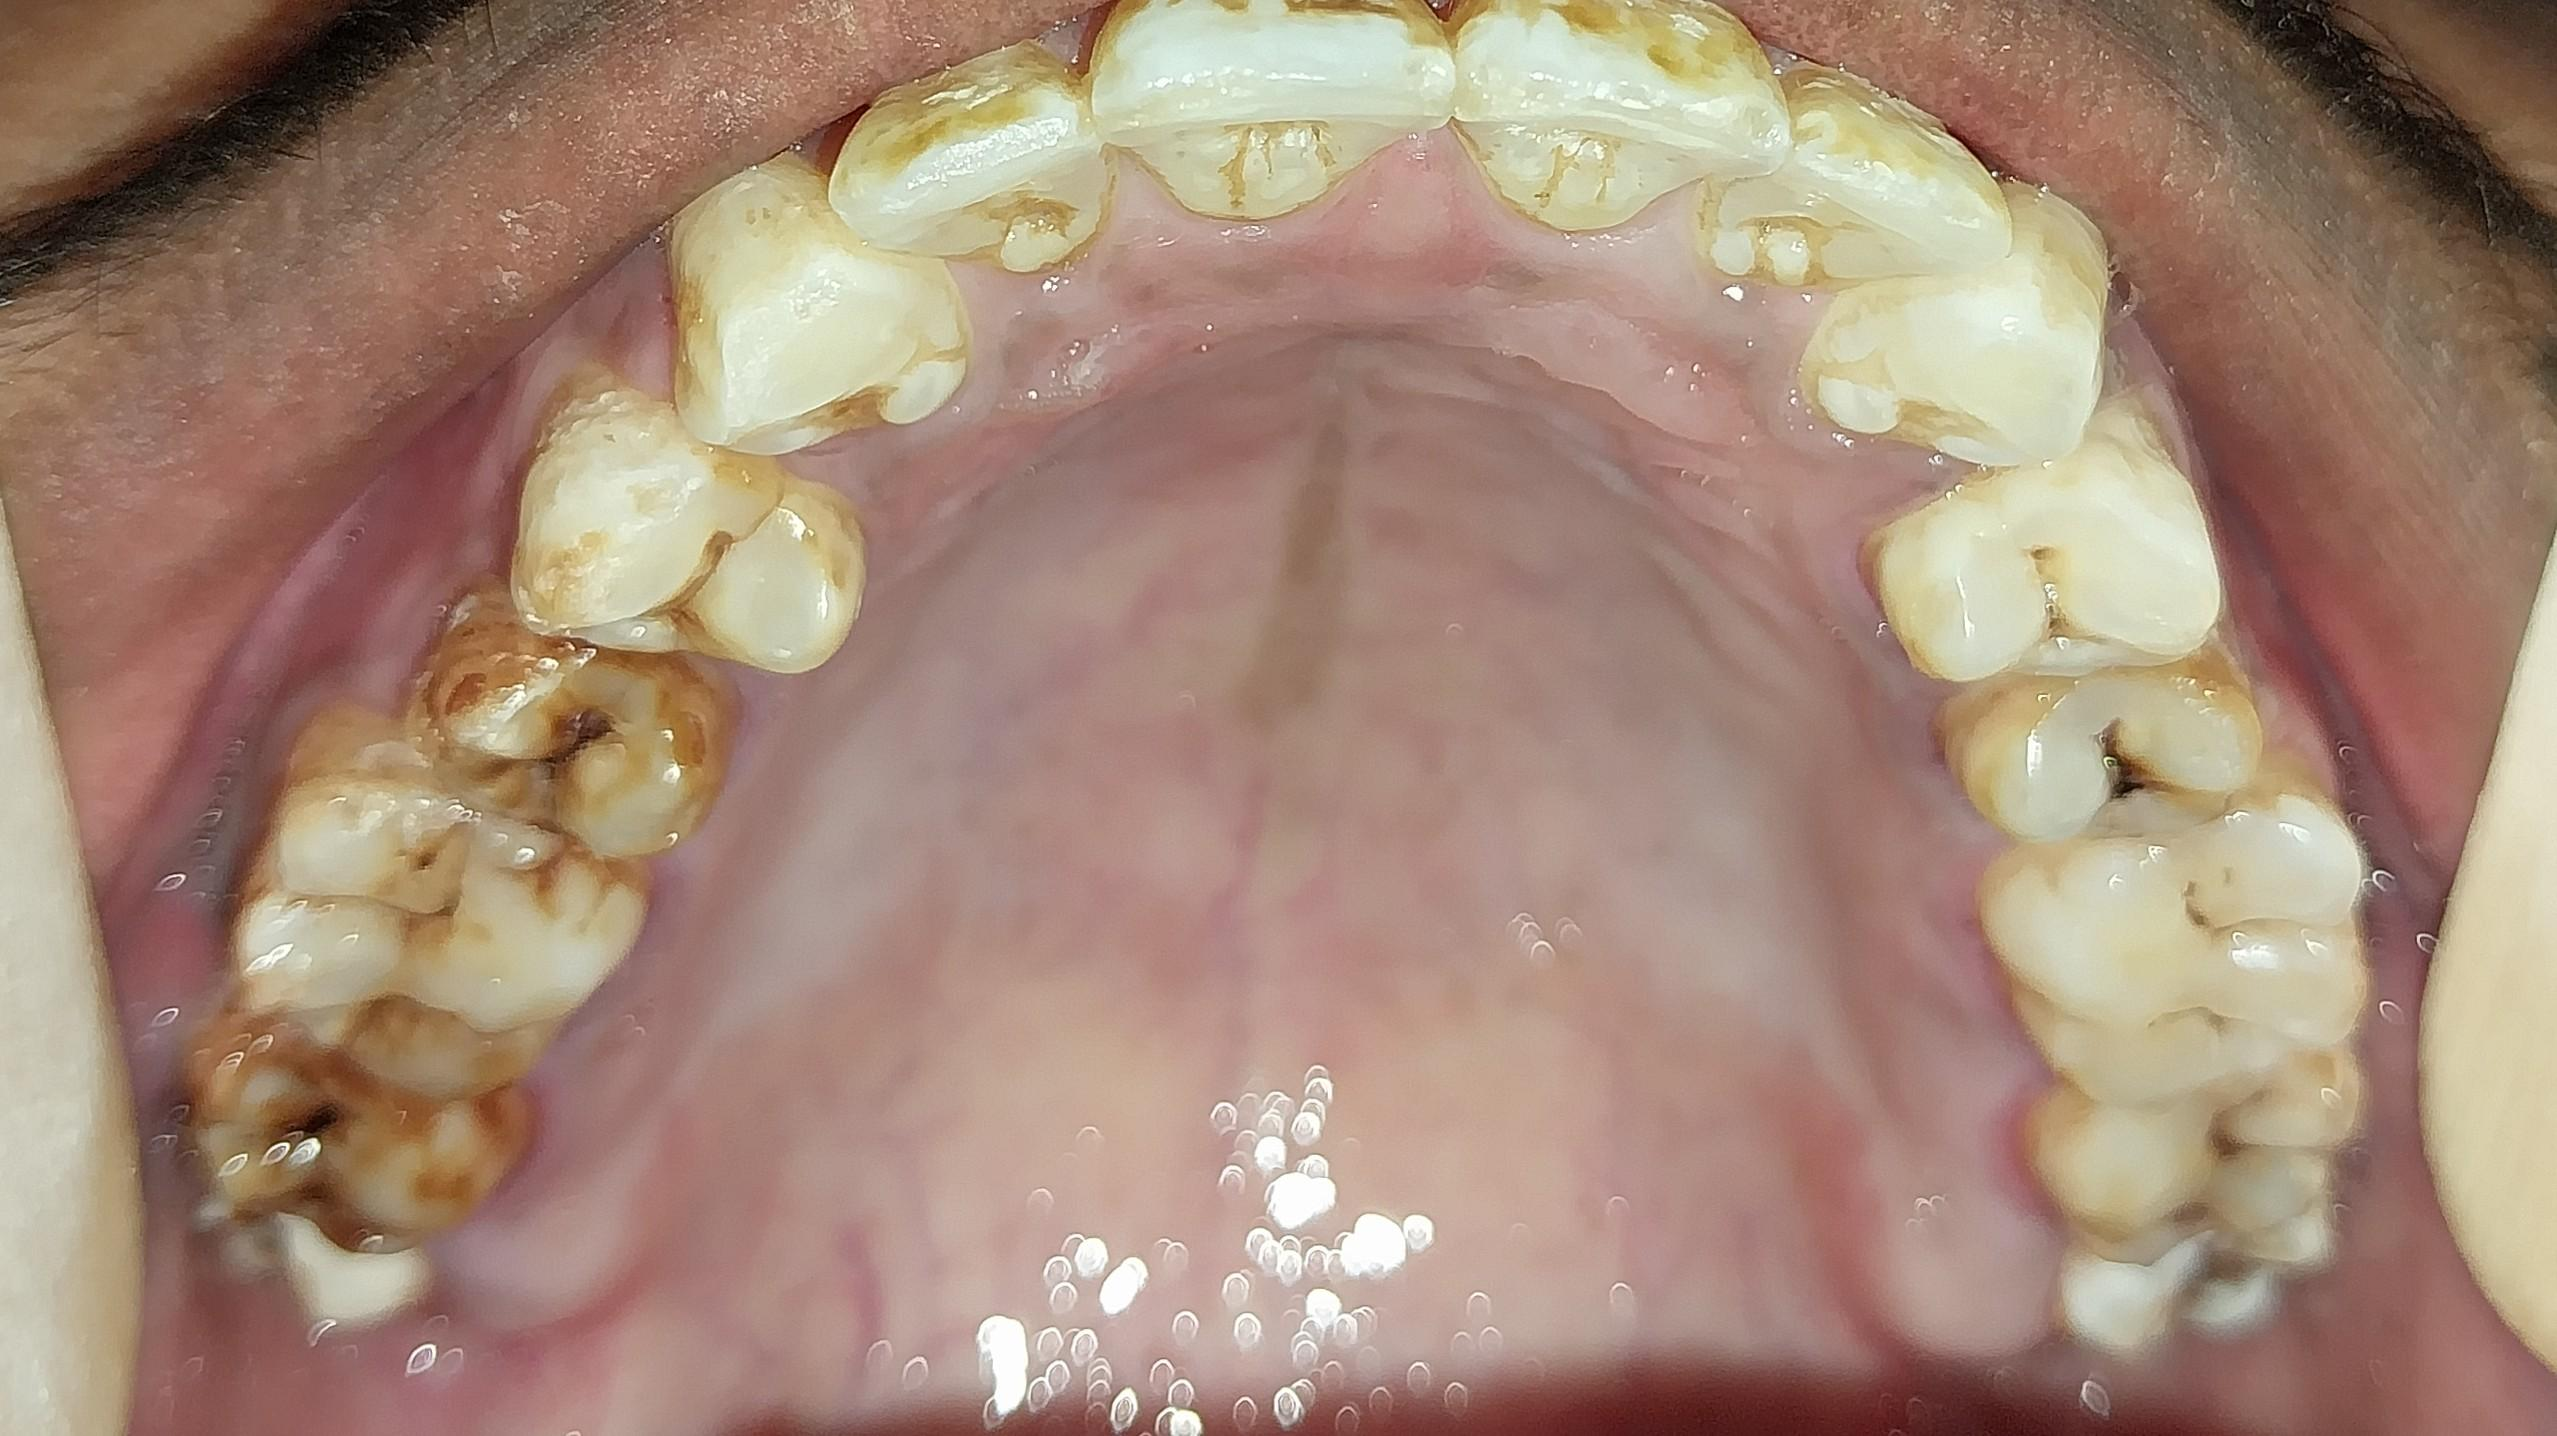D: (244, 778, 639, 1105), (1973, 803, 2383, 1086), (180, 1005, 534, 1247), (422, 600, 734, 854), (1876, 471, 2222, 666), (2022, 1052, 2368, 1237), (1949, 657, 2263, 844), (2029, 1237, 2346, 1361)
